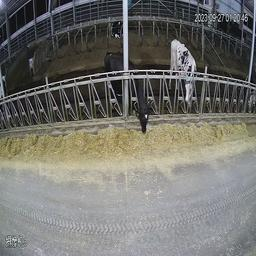cow: (104, 51, 152, 138), (168, 39, 197, 99), (110, 17, 123, 40)
